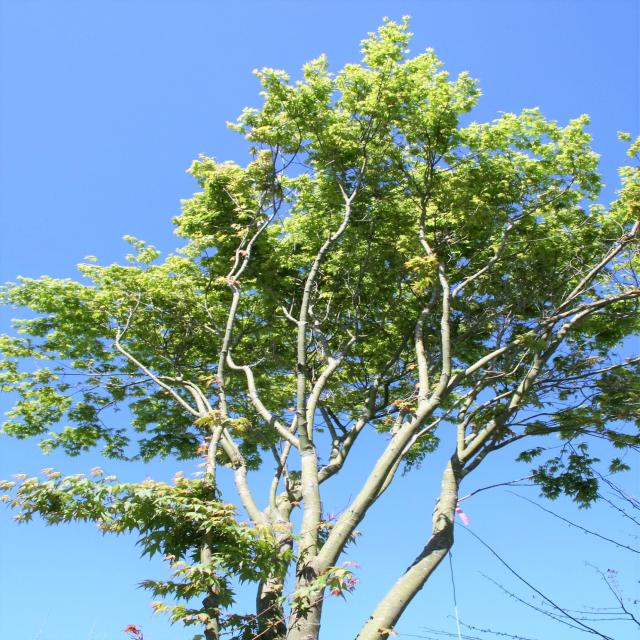Japanese Maple: (12, 7, 640, 622)
